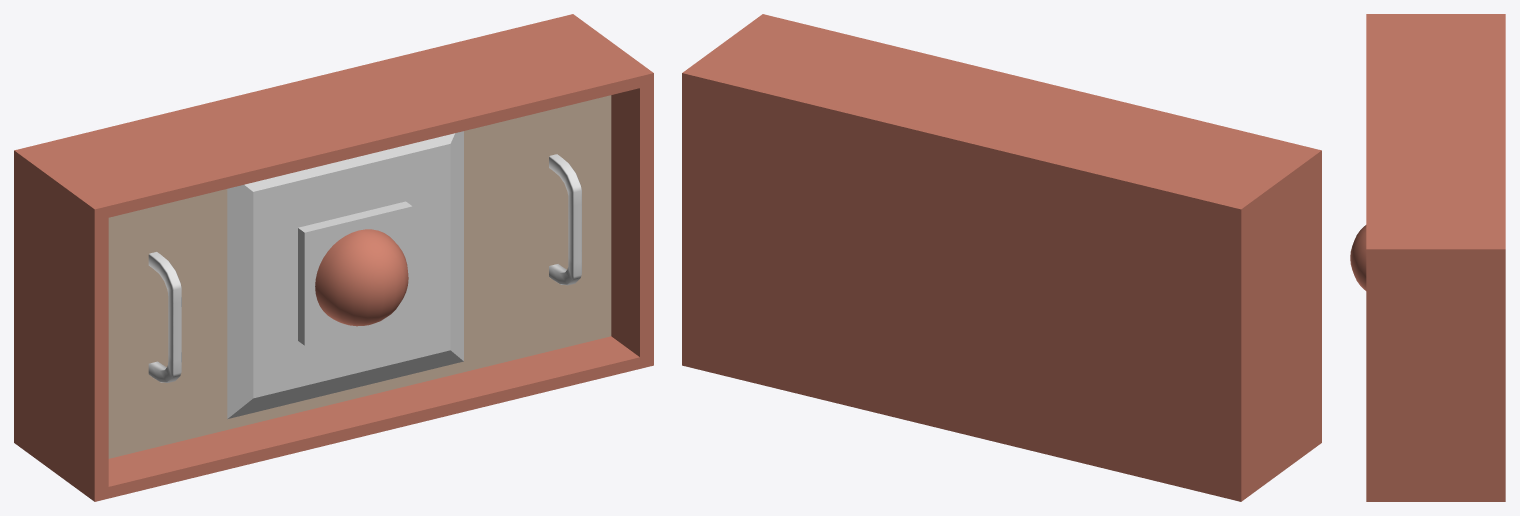
The model's file is Block4B.fbx.
The picture shows the model from 3 angles, left to right: view 1: azimuth 30°, elevation 25°; view 2: azimuth 150°, elevation 25°; view 3: azimuth 270°, elevation 25°; orthographic projection. The views are drawn at different scales.
Visible parts, largest first — view 1: Block4B; view 2: Block4B; view 3: Block4B.
Part boxes in pixels (x1,y1,x2,y2): Block4B: (14,14,653,501); Block4B: (682,14,1321,501); Block4B: (1350,14,1505,501).
Size of the model in its own units: 2 by 1 by 0.5584.
